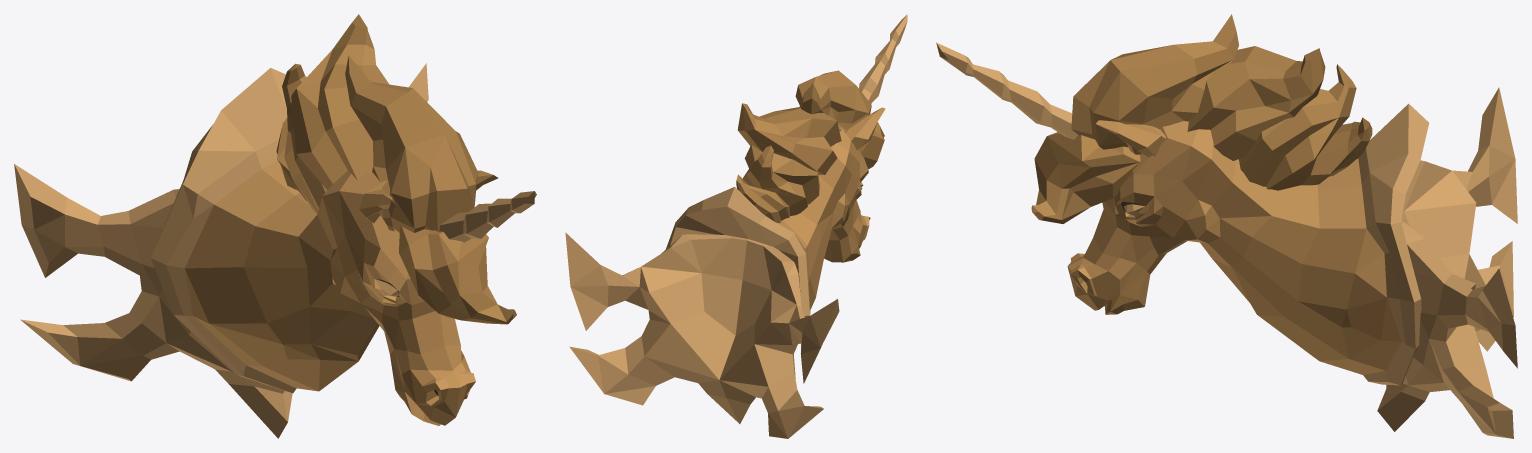
Rendered from SM_Veh_Ship_L_Figurehead_03.fbx.
3 views of the same model, side by side, from view 1: azimuth 30°, elevation 25°; view 2: azimuth 150°, elevation 25°; view 3: azimuth 270°, elevation 25° (orthographic). The views are drawn at different scales.
Visible parts, largest first — view 1: SM_Veh_Ship_L_Figurehead_03; view 2: SM_Veh_Ship_L_Figurehead_03; view 3: SM_Veh_Ship_L_Figurehead_03.
Part boxes in pixels (x1=…): SM_Veh_Ship_L_Figurehead_03: x1=14, y1=14, x2=536, y2=438; SM_Veh_Ship_L_Figurehead_03: x1=565, y1=14, x2=907, y2=438; SM_Veh_Ship_L_Figurehead_03: x1=936, y1=14, x2=1517, y2=438.
Bounding box in the file's own units: 575 × 606 × 781.
